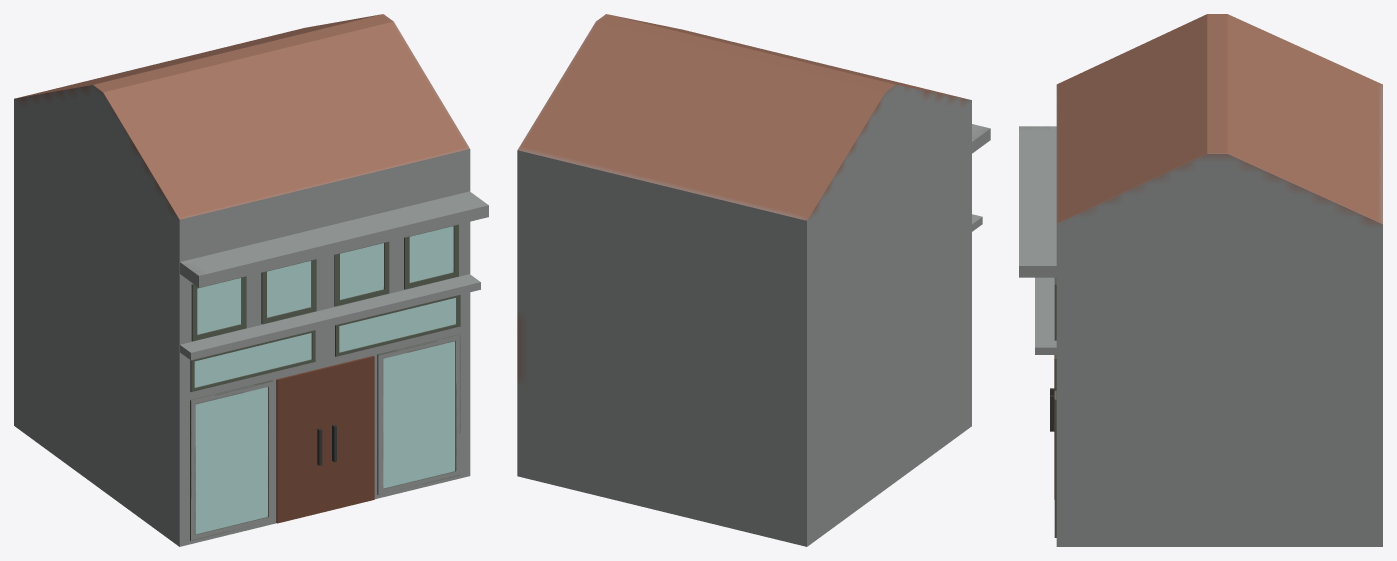
The model's file is BangunanGenericVar2.fbx.
3 renders of one model, left to right at view 1: azimuth 30°, elevation 25°; view 2: azimuth 150°, elevation 25°; view 3: azimuth 270°, elevation 25°, orthographic.
Visible parts, largest first — view 1: Bangunan_Var2_rev; view 2: Bangunan_Var2_rev; view 3: Bangunan_Var2_rev.
Part boxes in pixels (bbox=[...]): Bangunan_Var2_rev: bbox=[14, 14, 488, 546]; Bangunan_Var2_rev: bbox=[517, 14, 990, 546]; Bangunan_Var2_rev: bbox=[1019, 14, 1382, 546].
Size of the model in its own units: 298 by 391 by 328.
1 material, 1 textured.
